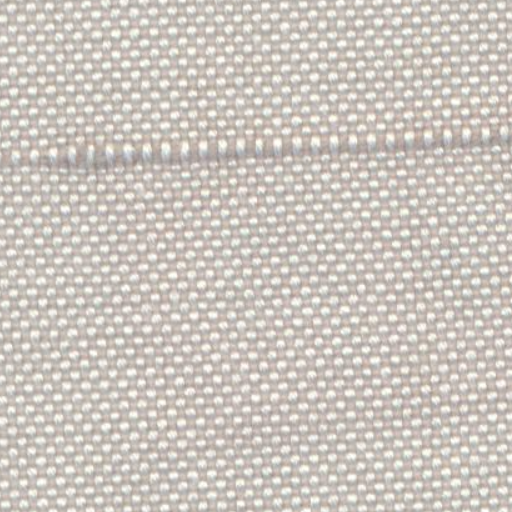DaiSha: (22, 122, 505, 176)
